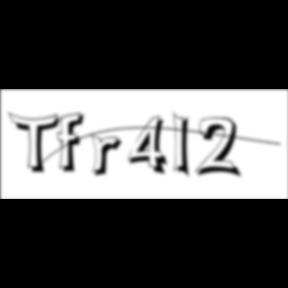2: (196, 117, 246, 181)
4: (128, 115, 174, 179)
I: (173, 110, 197, 182)
T: (8, 112, 66, 176)
f: (57, 111, 90, 175)
r: (91, 134, 129, 180)
